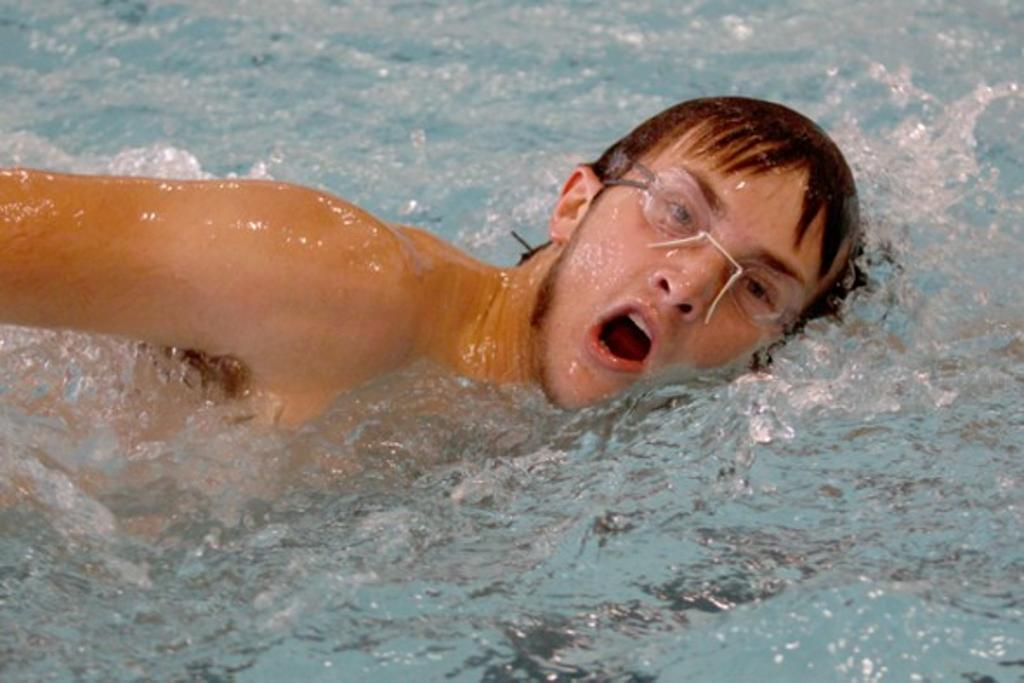face: (554, 164, 814, 408)
